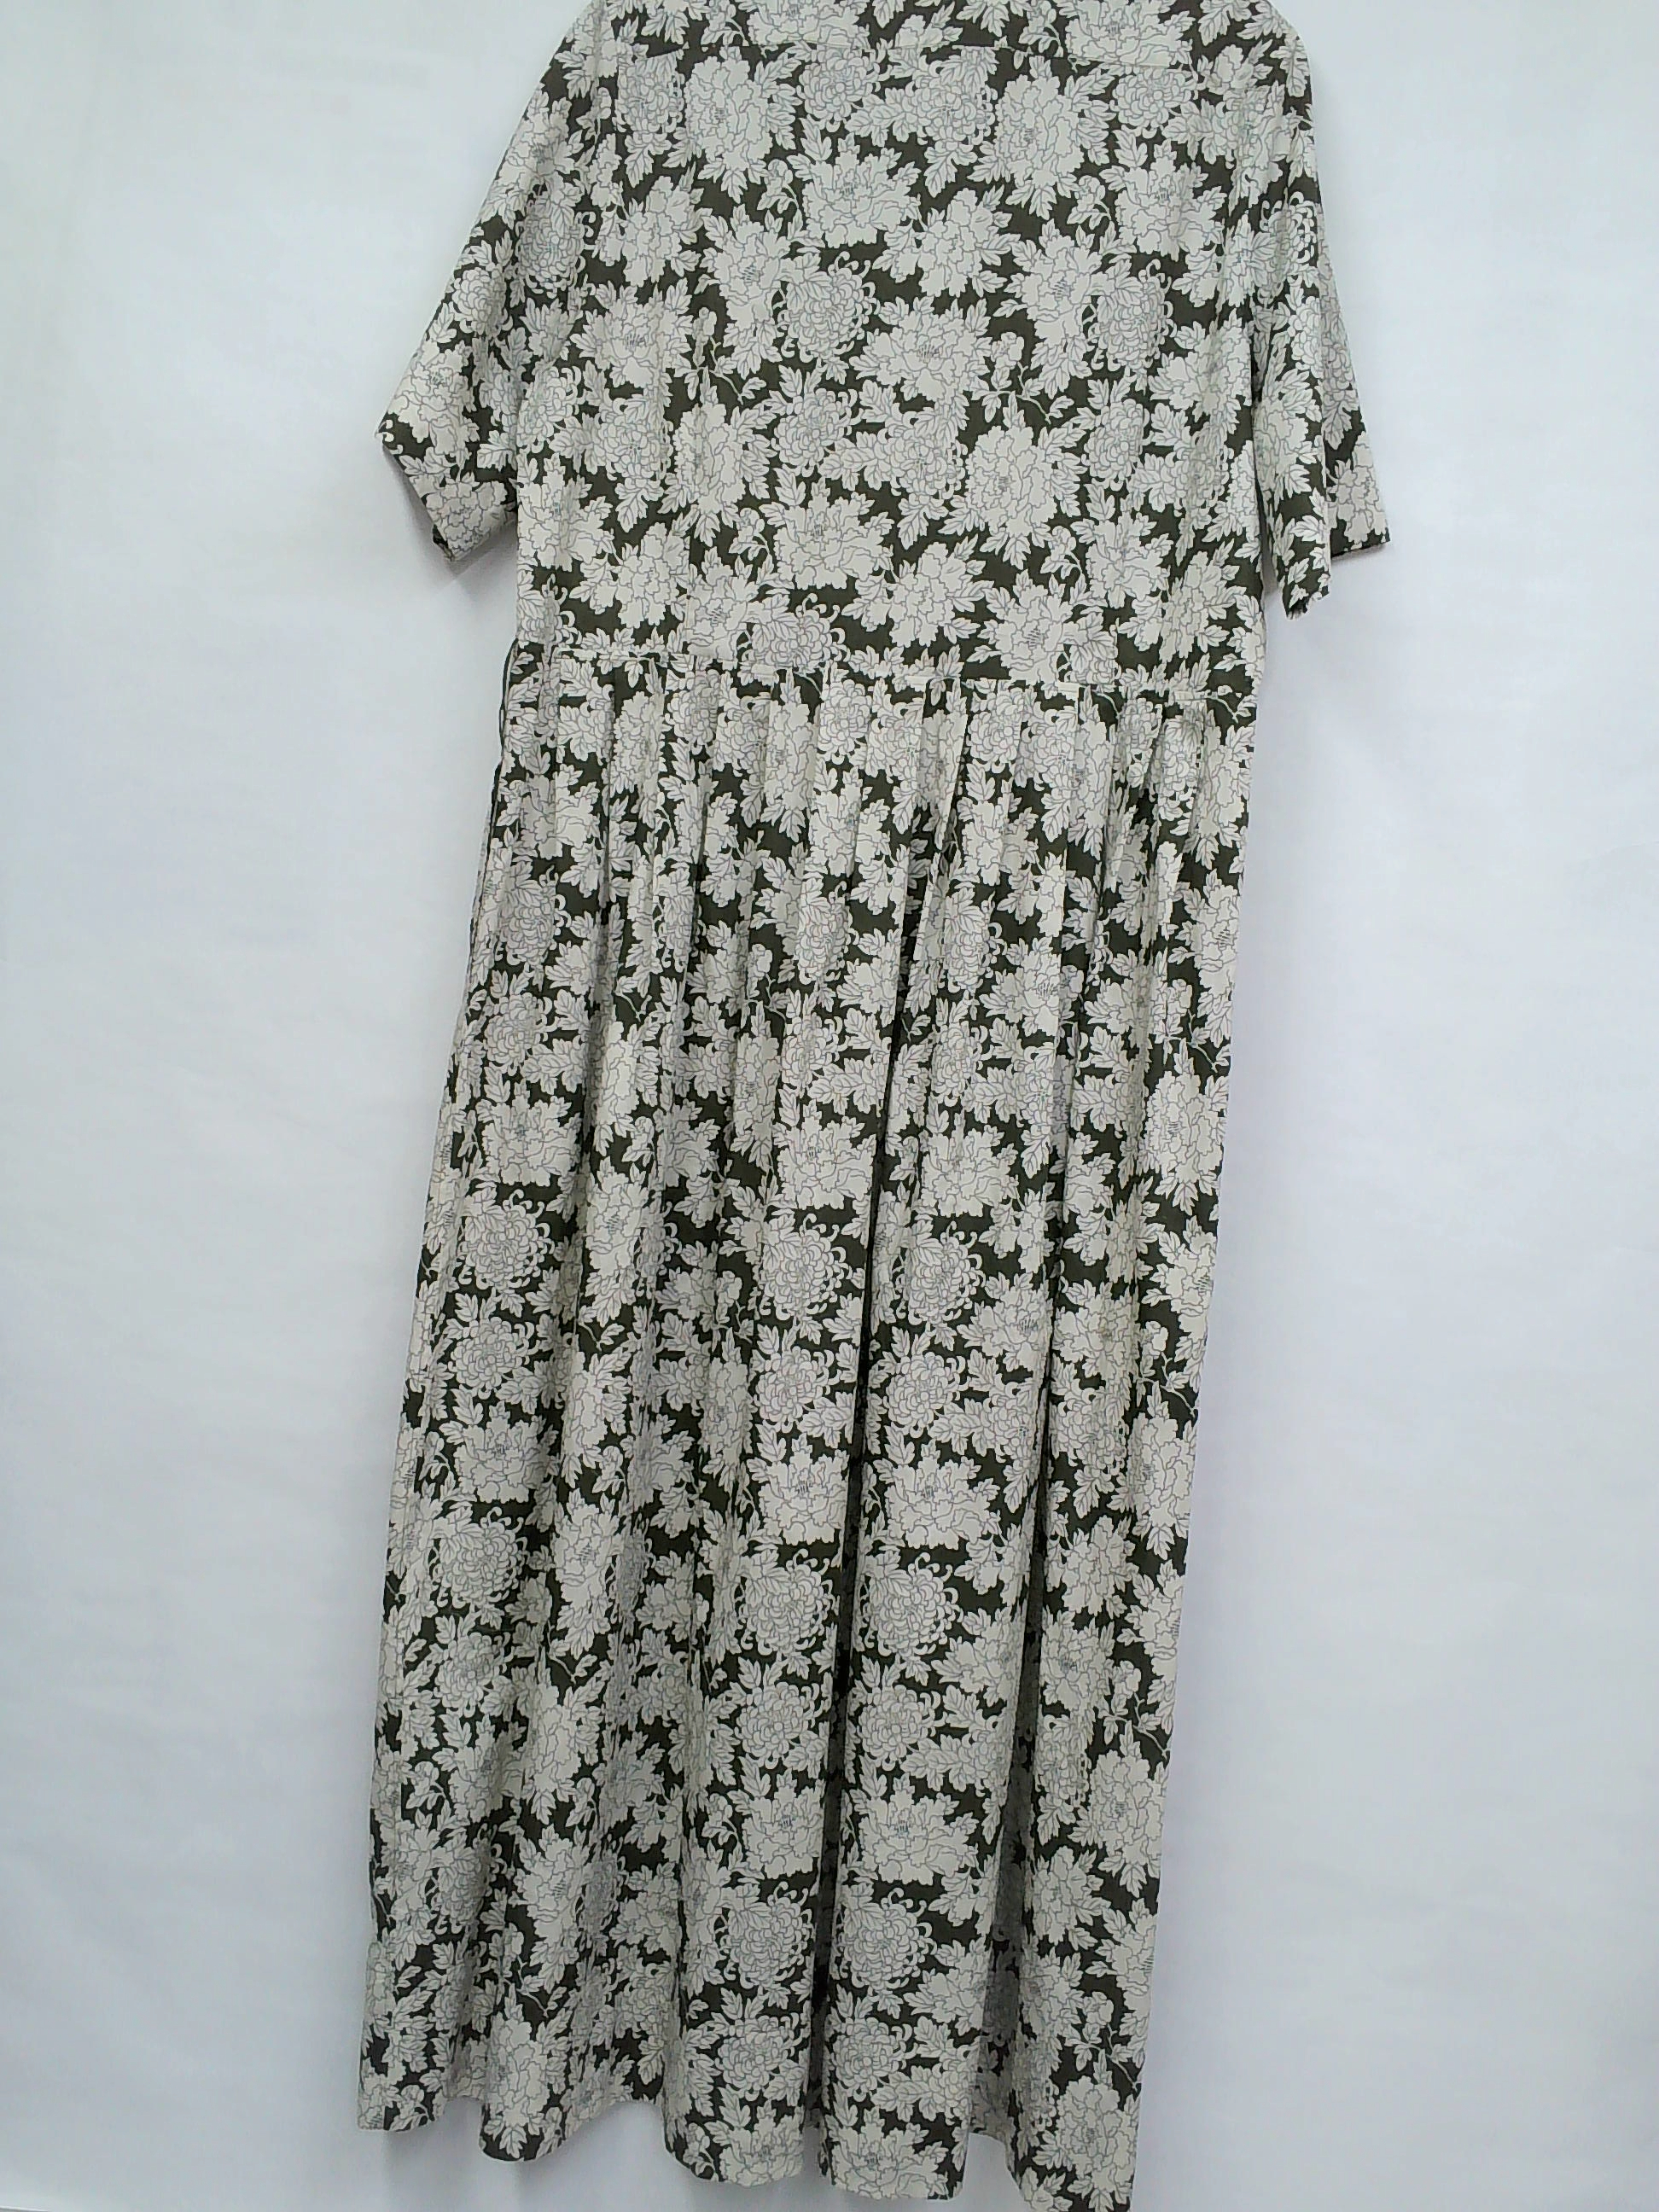seam: (1033, 657, 1274, 766)
